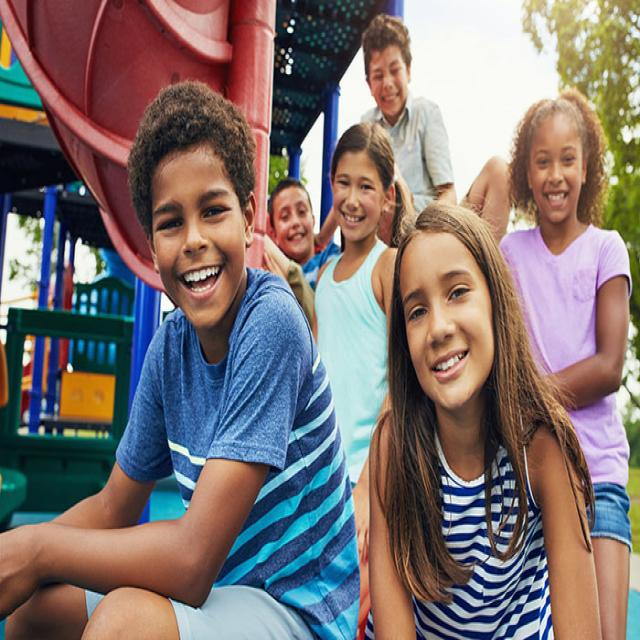child: (0, 79, 358, 640), (367, 203, 604, 640), (496, 93, 632, 640), (359, 12, 511, 235), (312, 123, 399, 484), (268, 180, 339, 303)
